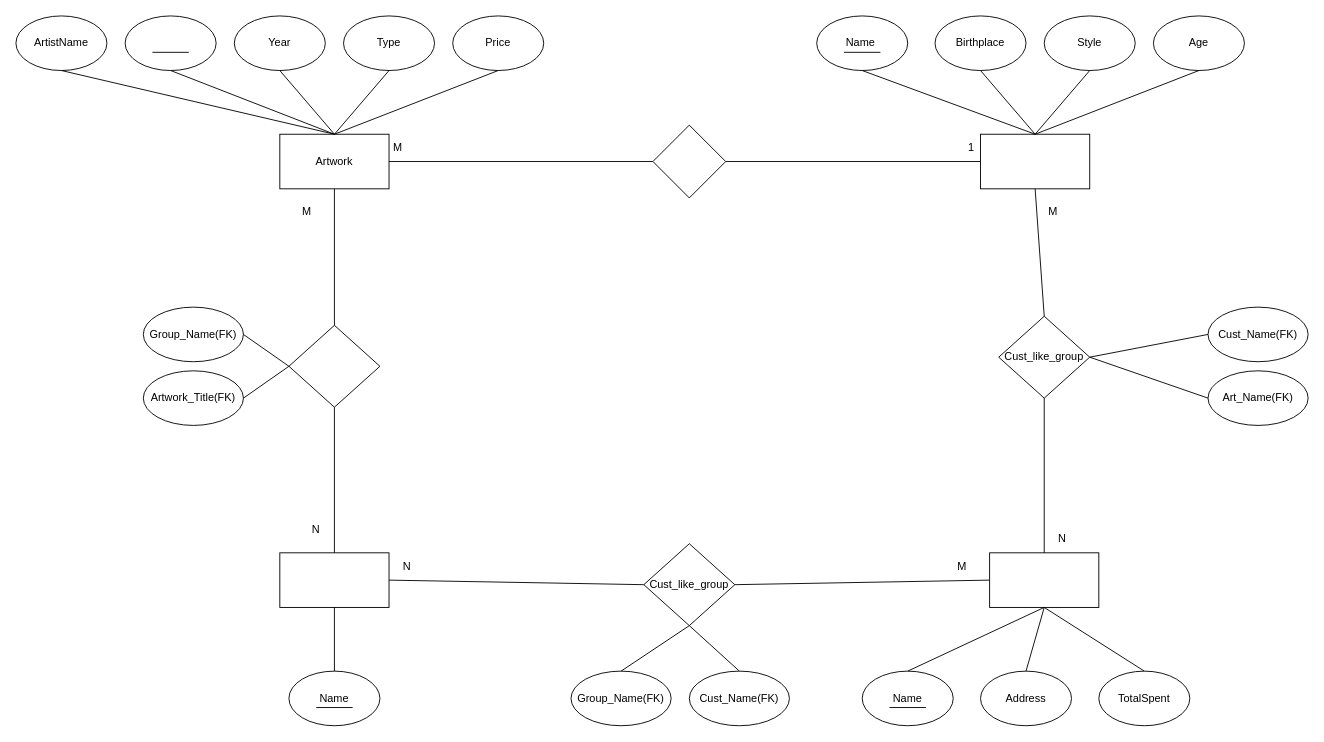
Image size: 1324x742. Some labels were removed from this diagram. Each missing label, with the centre of its shape:
"Artist" goes at [1035,161].
"Artwork_Group" goes at [334,365].
"Creates" goes at [689,161].
"Customer" goes at [1044,579].
"Group" goes at [334,579].
"Title" goes at [170,43].
